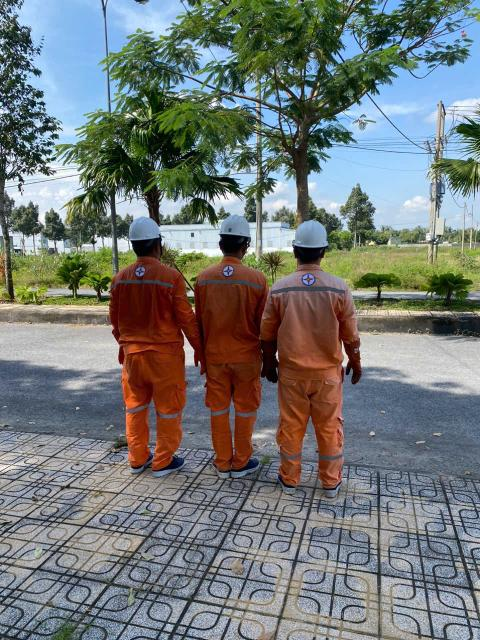gloves: (252, 334, 279, 381), (343, 338, 368, 385), (108, 336, 134, 368), (186, 337, 206, 376)
helmet: (283, 214, 337, 252), (211, 207, 257, 240), (124, 211, 167, 246)
shoes: (320, 469, 350, 502), (231, 454, 270, 479), (123, 447, 156, 475), (276, 460, 298, 500), (156, 451, 186, 480), (209, 453, 227, 481)
